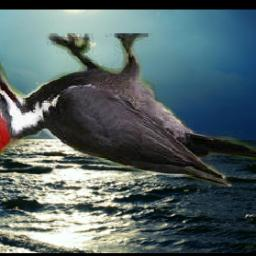Woodpecker: (0, 34, 256, 187)
